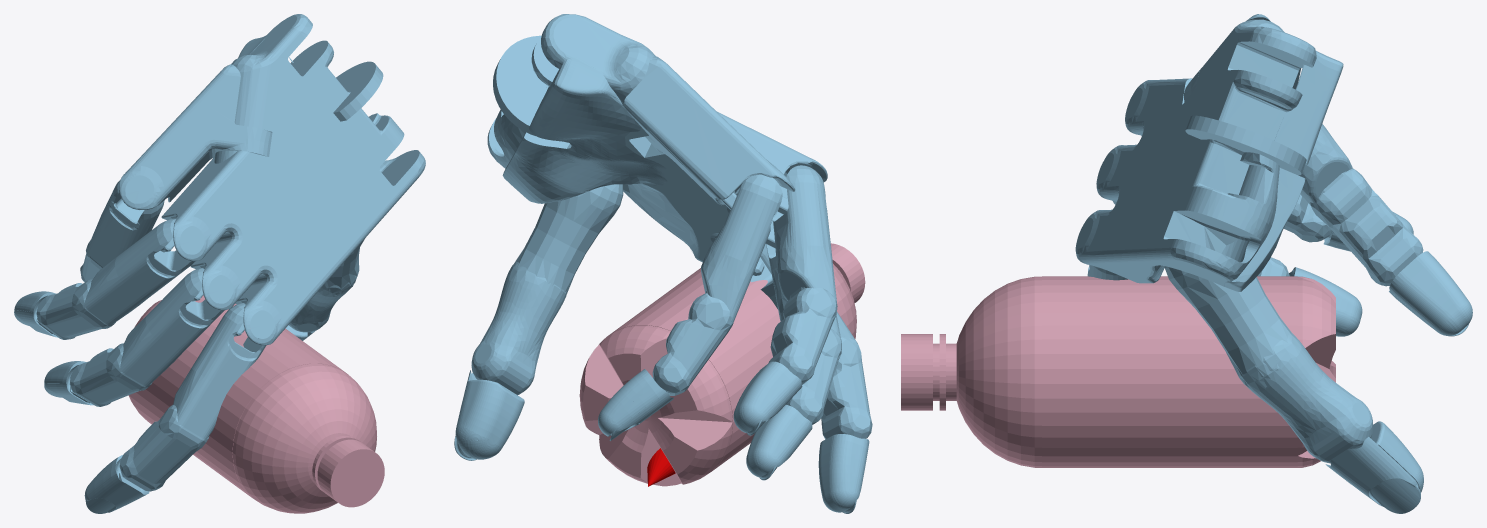
The picture shows the model from 3 angles, left to right: view 1: azimuth 30°, elevation 25°; view 2: azimuth 150°, elevation 25°; view 3: azimuth 270°, elevation 25°; orthographic projection. The views are drawn at different scales.
Parts seen in each view (by area): view 1: world, water_bottle.stl; view 2: world, water_bottle.stl; view 3: world, water_bottle.stl.
Boxes of the visible parts, bbox=[...] form: world: bbox=[14, 14, 425, 513]; water_bottle.stl: bbox=[128, 295, 384, 513]; world: bbox=[454, 14, 872, 513]; water_bottle.stl: bbox=[579, 243, 865, 486]; world: bbox=[1075, 14, 1472, 513]; water_bottle.stl: bbox=[901, 276, 1335, 467].
Bounding box in the file's own units: 0.1498 × 0.1785 × 0.1794.
